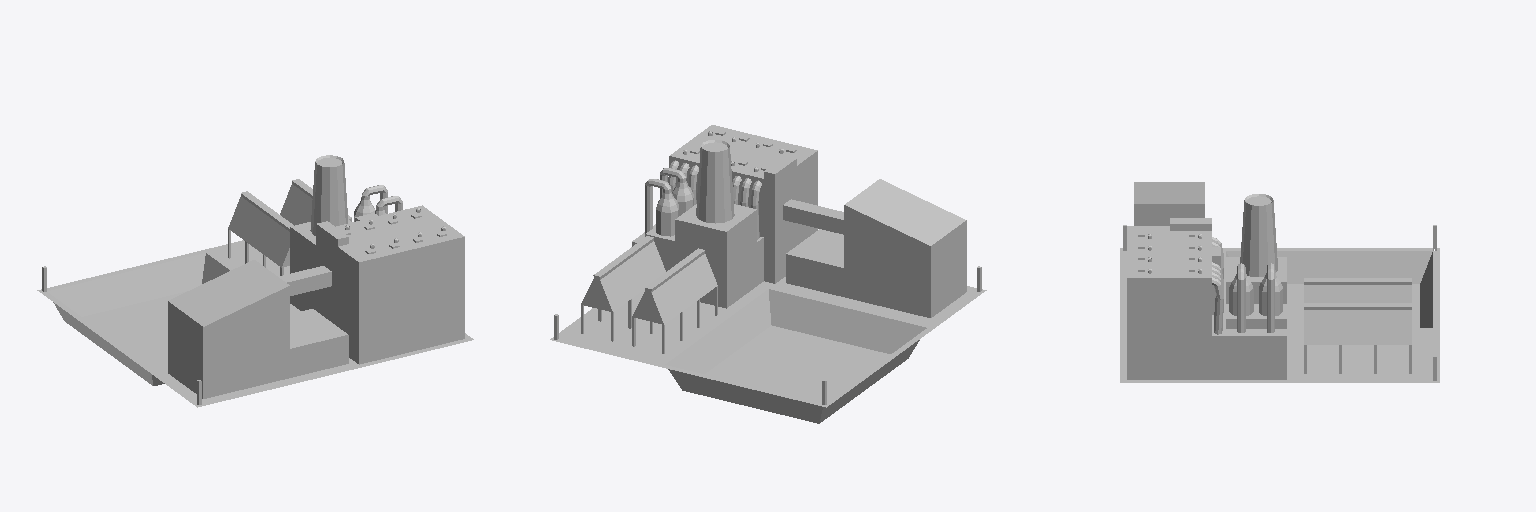
The model's file is Garbagedisposal.obj.
The picture shows the model from 3 angles: view 1: azimuth 30°, elevation 25°; view 2: azimuth 150°, elevation 25°; view 3: azimuth 270°, elevation 25°; orthographic projection.
Parts seen in each view (by area): view 1: Factory_Plane.002; view 2: Factory_Plane.002; view 3: Factory_Plane.002.
Part boxes in pixels (x1,y1,x2,y2): Factory_Plane.002: (37,155,473,407); Factory_Plane.002: (550,125,986,423); Factory_Plane.002: (1120,182,1439,382).
Bounding box in the file's own units: 30 × 18 × 30.